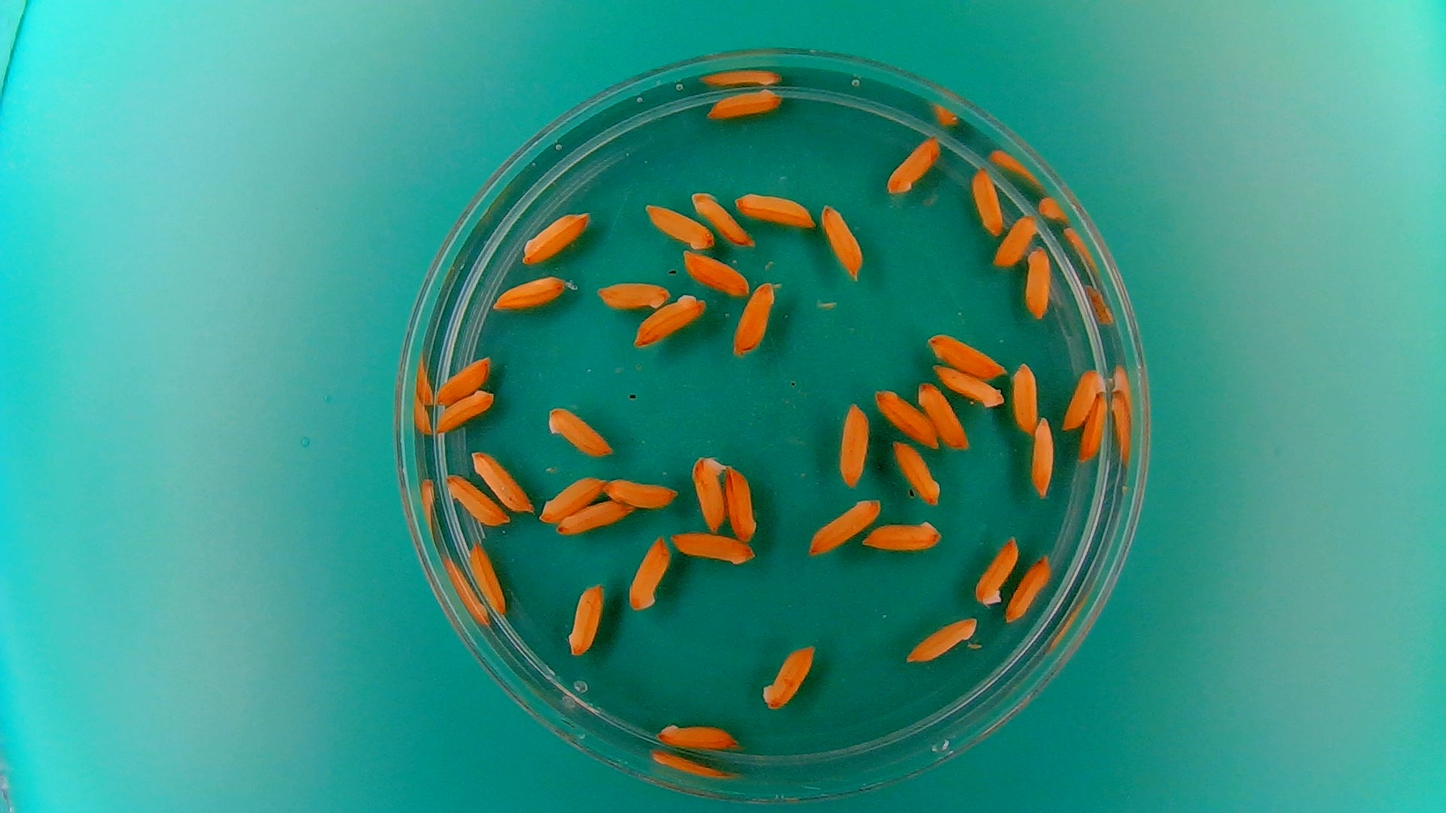no: (804, 496, 883, 556), (630, 291, 709, 349), (520, 207, 592, 265), (872, 387, 941, 447), (470, 449, 532, 515), (758, 641, 816, 711), (930, 364, 1008, 415), (543, 403, 615, 458), (895, 618, 981, 664), (924, 330, 1007, 377), (916, 378, 969, 451), (884, 132, 943, 196), (972, 531, 1021, 608), (442, 471, 509, 527), (627, 532, 673, 613), (731, 279, 778, 358), (688, 190, 753, 247), (819, 200, 865, 280), (642, 202, 715, 251), (537, 473, 604, 525), (732, 188, 819, 228), (1005, 553, 1054, 624), (889, 439, 941, 505), (681, 248, 752, 296), (835, 397, 872, 488), (465, 539, 508, 617), (667, 528, 757, 565), (654, 717, 743, 753), (565, 580, 606, 657), (1060, 366, 1108, 431), (690, 452, 728, 534), (433, 355, 492, 406), (862, 517, 945, 553), (556, 498, 634, 536), (492, 272, 569, 310), (434, 388, 496, 435), (724, 461, 759, 544), (969, 163, 1006, 239), (704, 86, 784, 121), (602, 475, 680, 510), (993, 212, 1040, 268), (594, 279, 673, 312), (1010, 359, 1041, 436), (1077, 391, 1109, 463), (1023, 242, 1053, 318), (1030, 413, 1056, 497)
